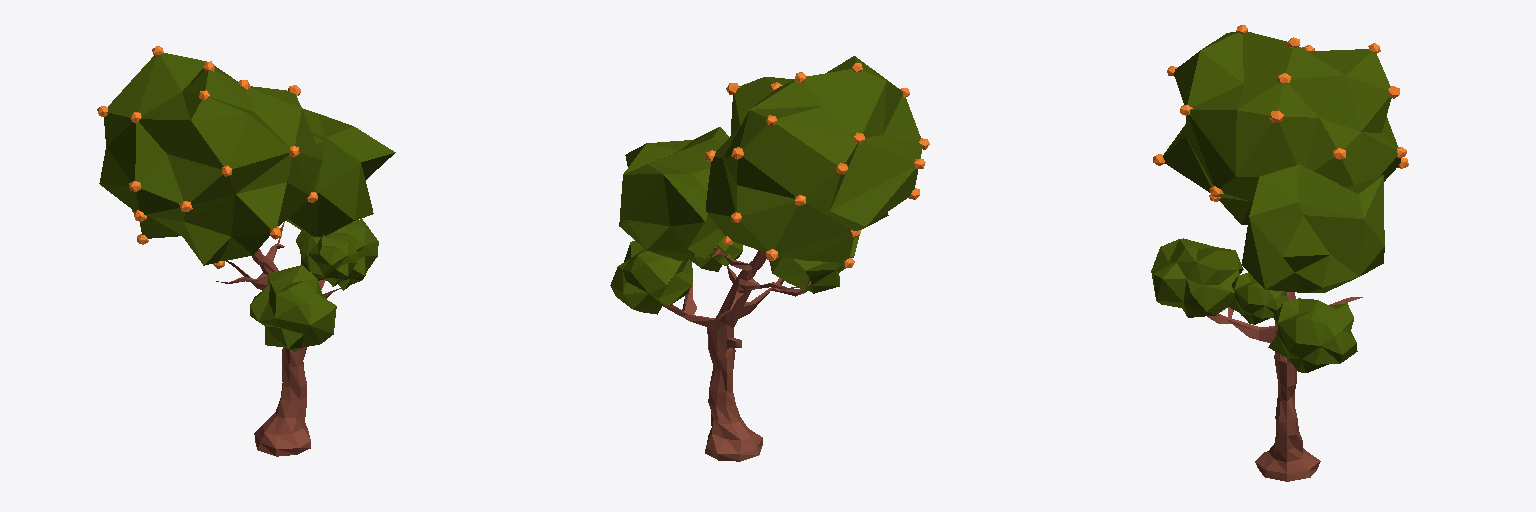
Rendered from m_tree.obj.
3 renders of one model, left to right at view 1: azimuth 30°, elevation 25°; view 2: azimuth 150°, elevation 25°; view 3: azimuth 270°, elevation 25°, orthographic.
Visible parts, largest first — view 1: Leaves_1.001; view 2: Leaves_1.001; view 3: Leaves_1.001.
Part boxes in pixels (bbox=[...]): Leaves_1.001: bbox=[97, 46, 395, 456]; Leaves_1.001: bbox=[610, 56, 929, 461]; Leaves_1.001: bbox=[1151, 25, 1408, 481].
Size of the model in its own units: 4.69 by 6.28 by 3.7.